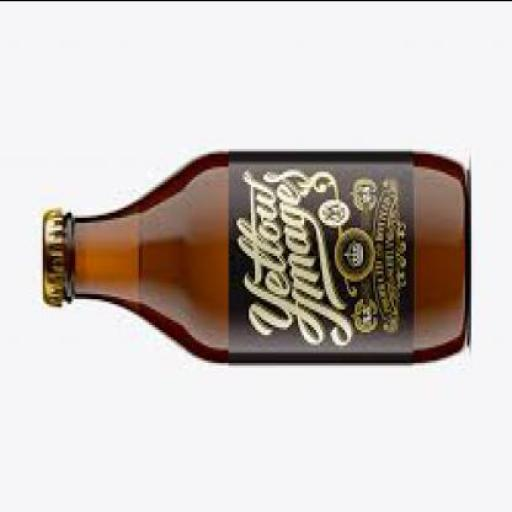glass: (61, 153, 467, 364)
metal: (39, 214, 59, 308)
